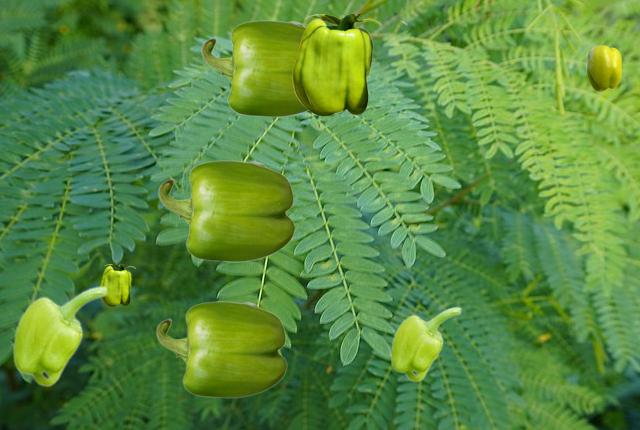bell_pepper: (158, 160, 294, 261), (156, 301, 286, 397), (201, 20, 308, 116), (12, 285, 107, 386), (292, 14, 380, 115), (390, 306, 461, 381), (586, 45, 620, 90), (99, 264, 134, 305)
